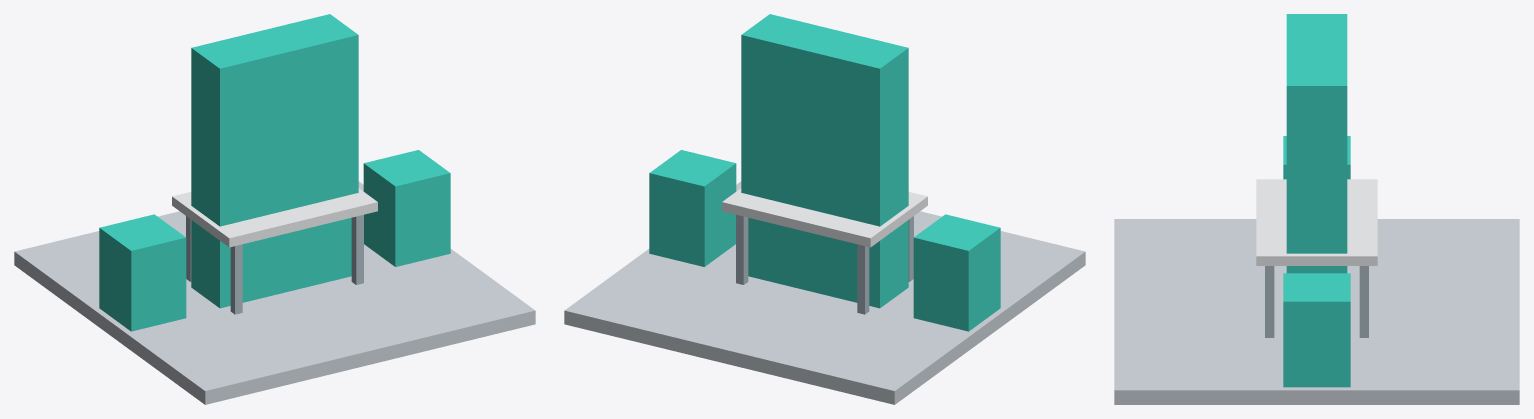
The picture shows the model from 3 angles, left to right: view 1: azimuth 30°, elevation 25°; view 2: azimuth 150°, elevation 25°; view 3: azimuth 270°, elevation 25°; orthographic projection. The views are drawn at different scales.
Visible parts, largest first — view 1: Exhibition Booth Concept; view 2: Exhibition Booth Concept; view 3: Exhibition Booth Concept.
Boxes of the visible parts, left/top/right/bottom form: Exhibition Booth Concept: left=14, top=14, right=535, bottom=404; Exhibition Booth Concept: left=564, top=14, right=1085, bottom=404; Exhibition Booth Concept: left=1114, top=14, right=1519, bottom=404.
Bounding box in the file's own units: 3 × 2.2 × 3.
